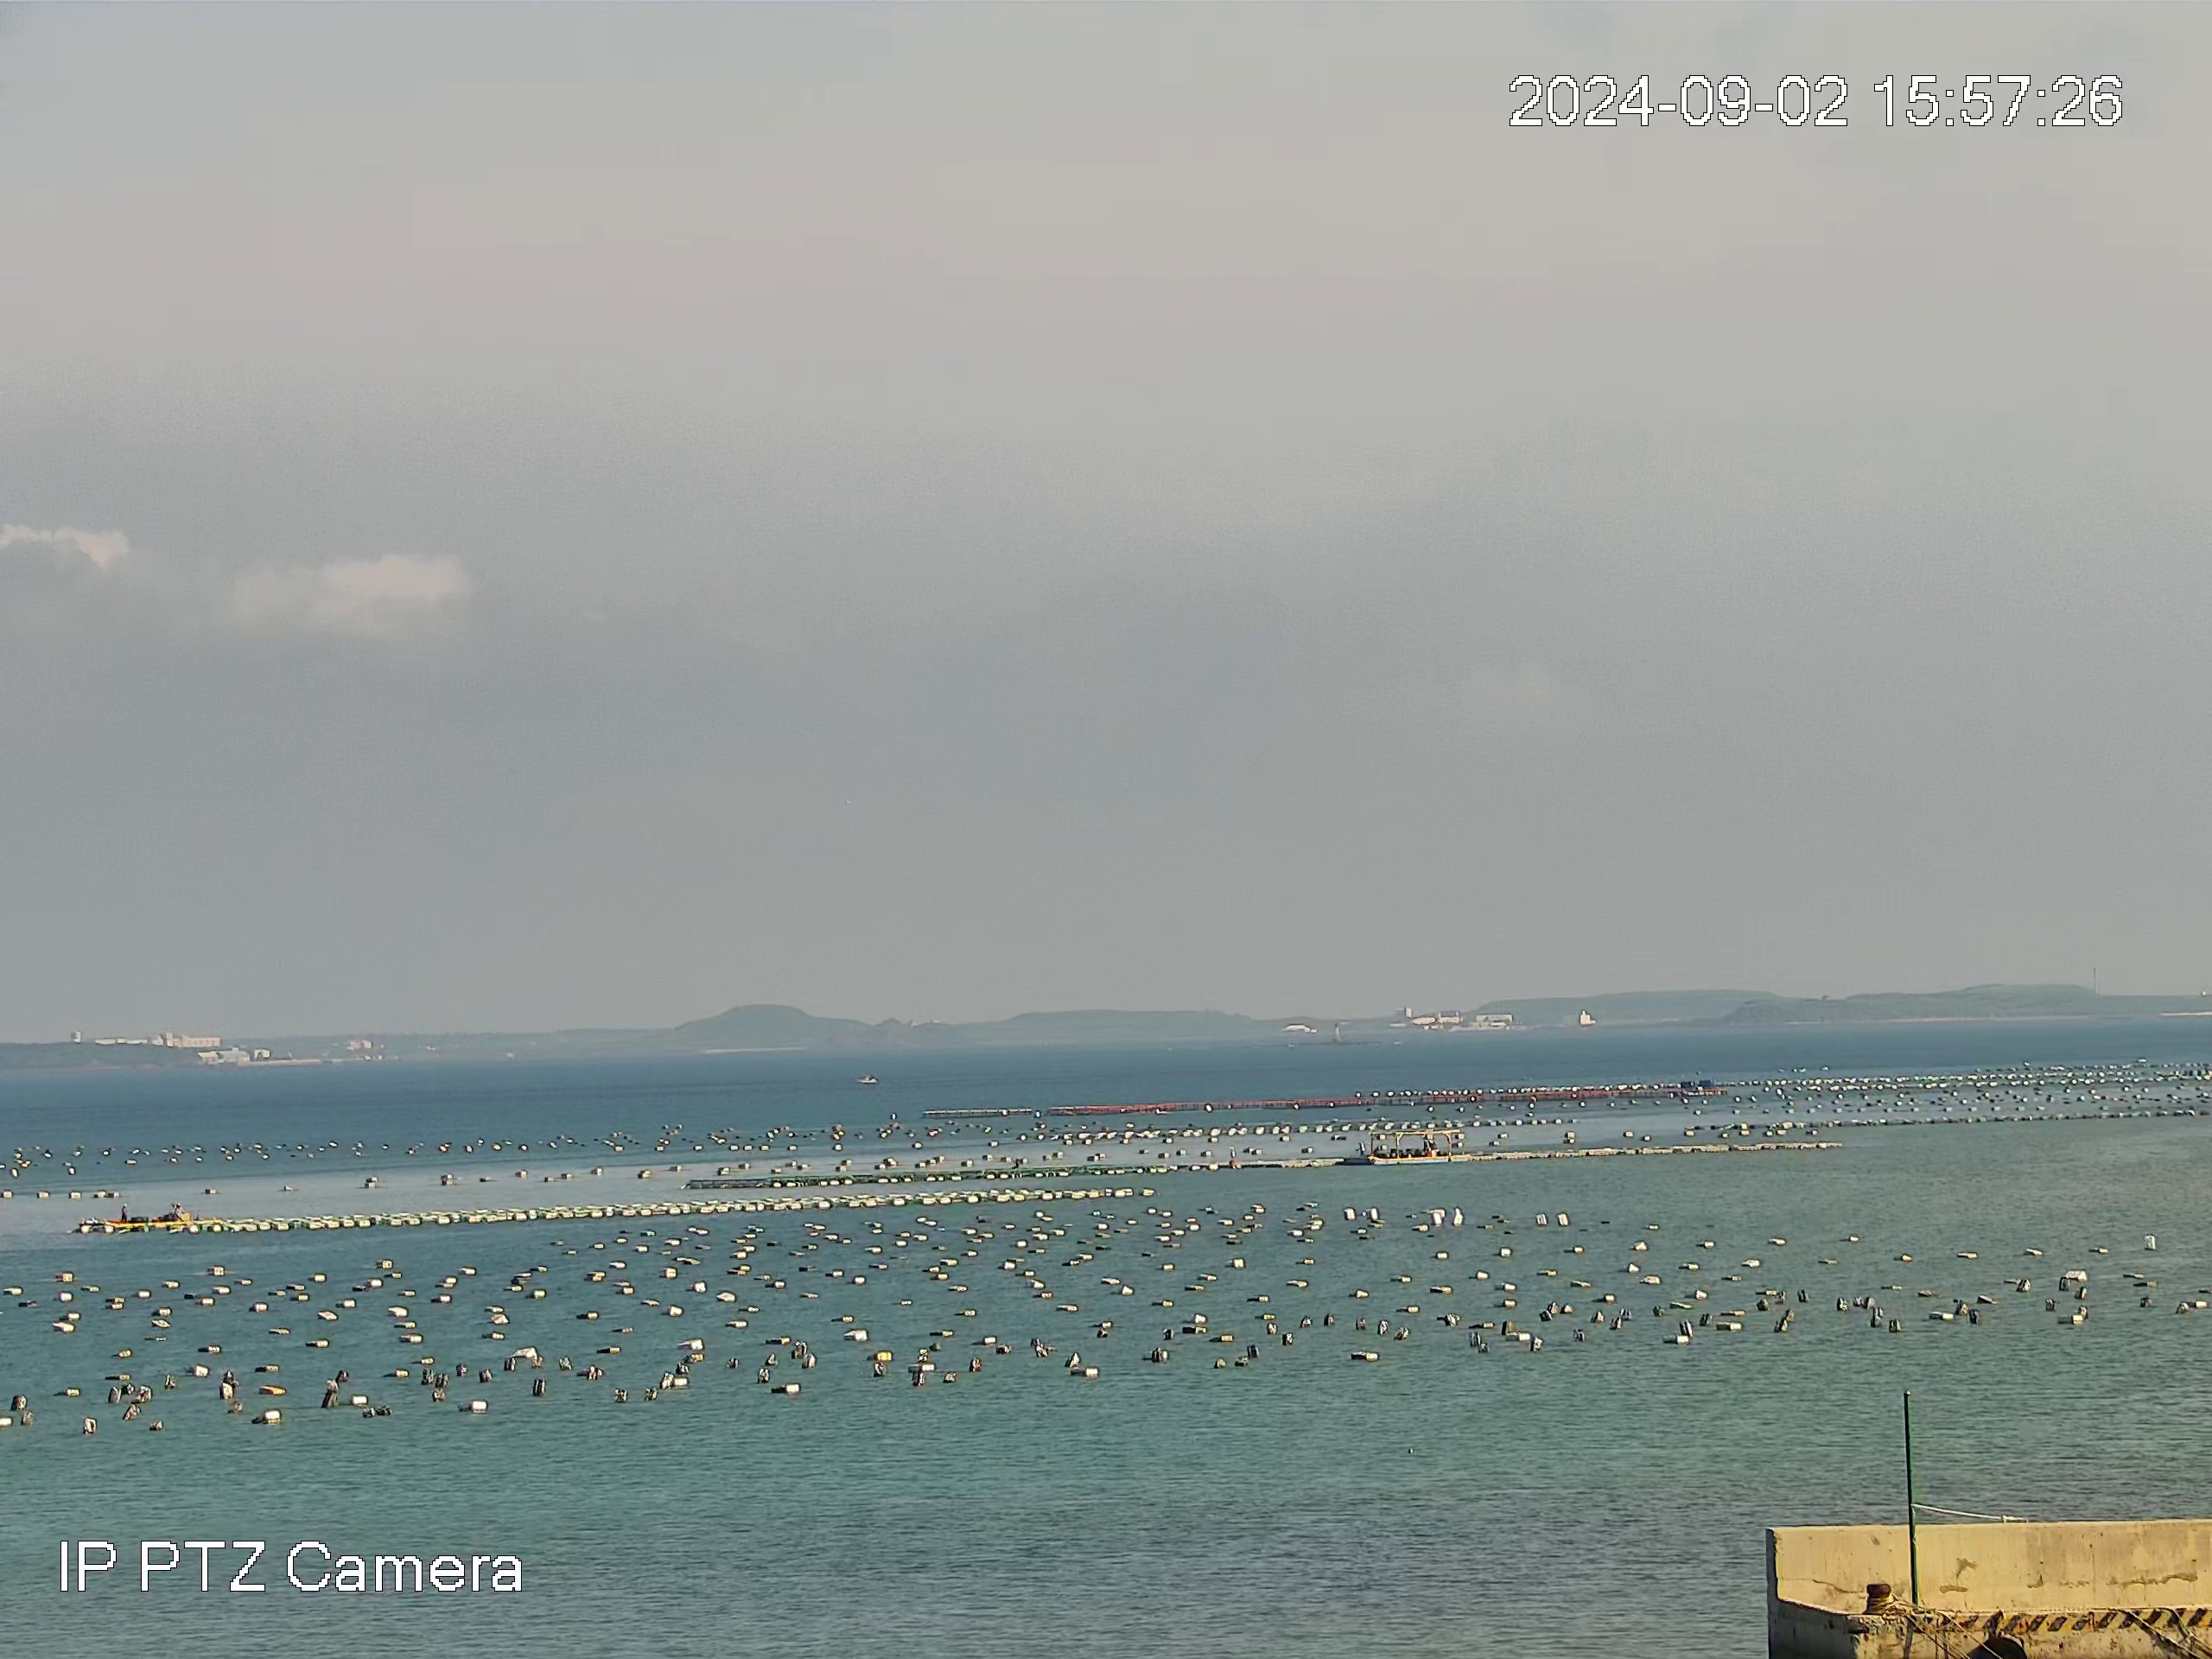boat: (1366, 1127, 1469, 1166), (101, 1201, 226, 1226), (855, 1073, 879, 1085)
